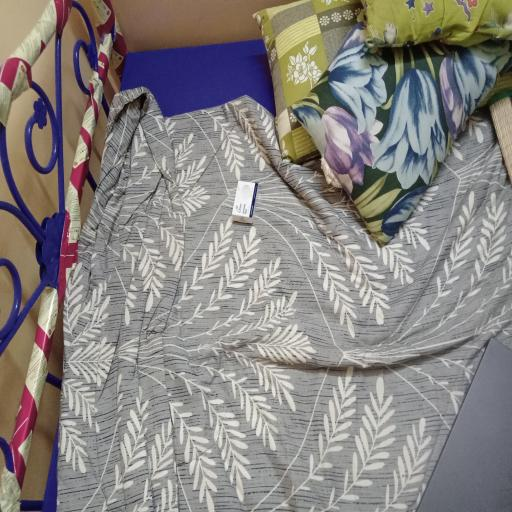Dove`1: (230, 179, 259, 225)
